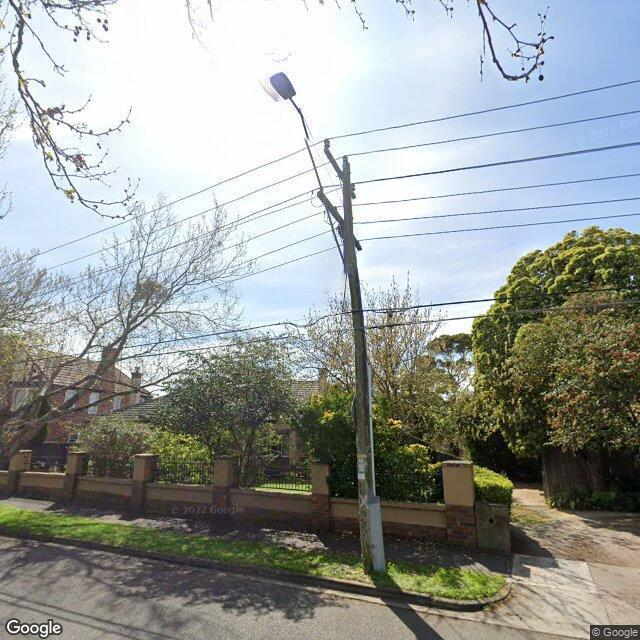HV-transmission: (324, 138, 355, 192)
crossarm: (317, 191, 362, 251), (324, 148, 355, 198)
streetlight: (270, 72, 344, 269)
timber-pole: (344, 161, 385, 575)
